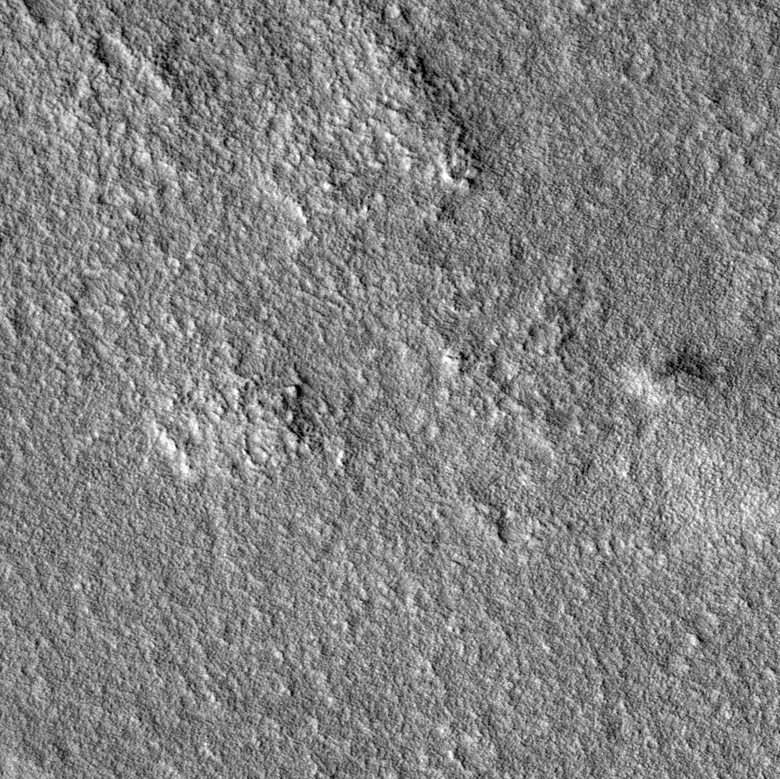dust_devil: (627, 344, 720, 404)
